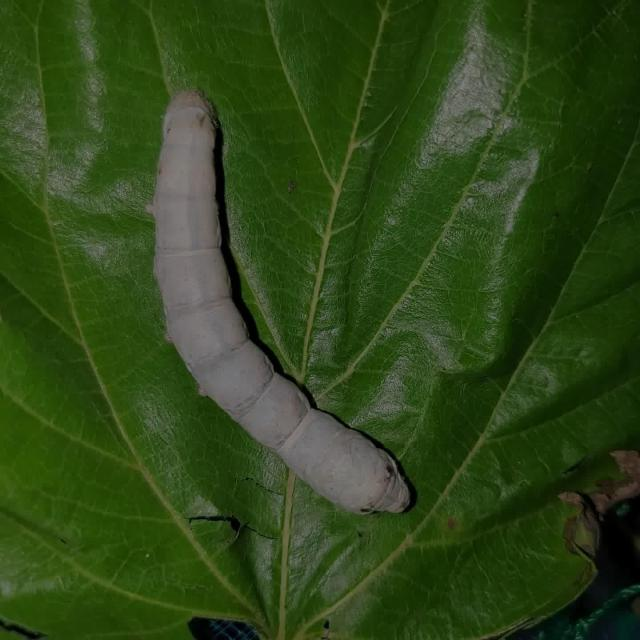Healthy: (117, 72, 436, 530)
